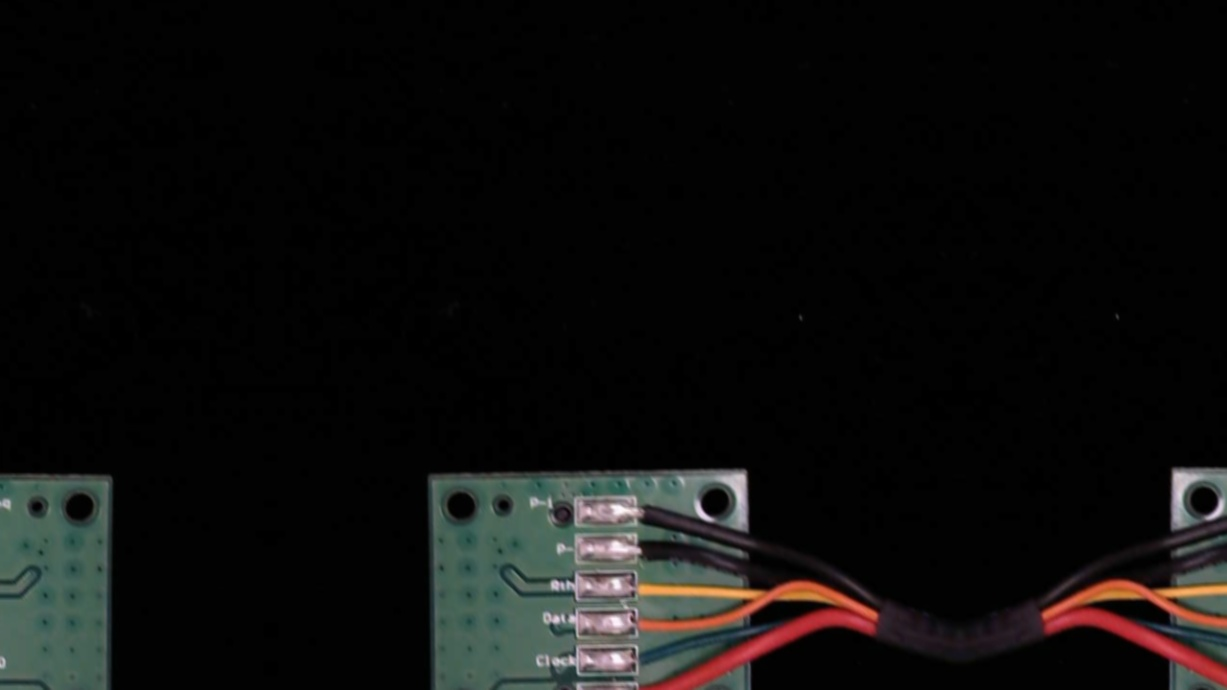Black: (618, 535, 681, 563)
Black1: (619, 492, 683, 524)
Green: (614, 646, 675, 676)
Orange: (616, 609, 676, 638)
Red: (616, 681, 683, 690)
Yellow: (617, 573, 683, 599)
